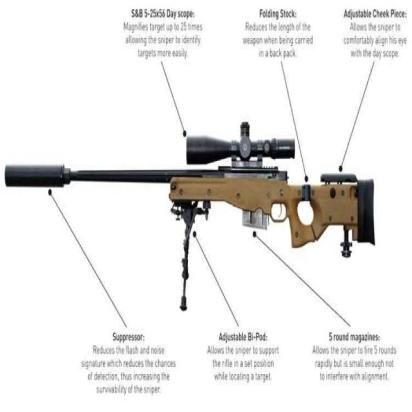Gun: (0, 92, 393, 326)
